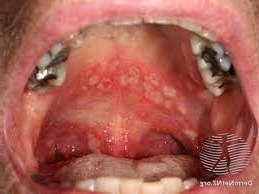Ulcer: (85, 63, 186, 108)
